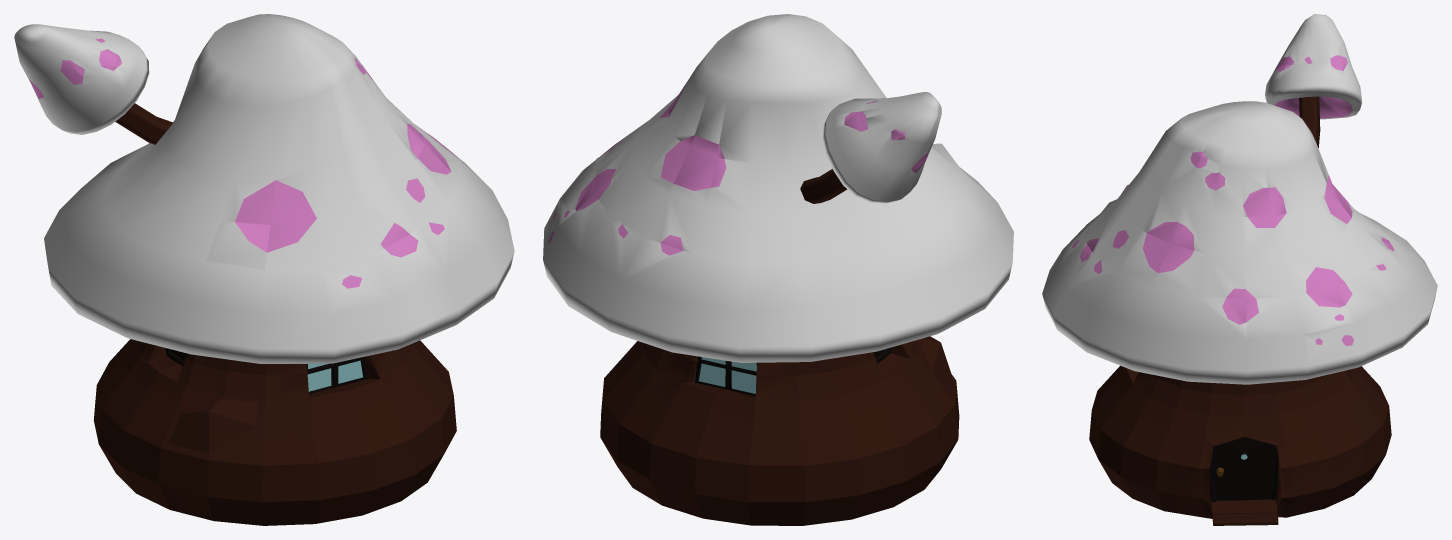
The model's file is mushroom-house.obj.
3 views of the same model, side by side, from view 1: azimuth 30°, elevation 25°; view 2: azimuth 150°, elevation 25°; view 3: azimuth 270°, elevation 25° (orthographic). The views are drawn at different scales.
Visible parts, largest first — view 1: Base.001; view 2: Base.001; view 3: Base.001, Door.001.
Boxes of the visible parts, x1,y1,x2,y2 form: Base.001: (14, 14, 514, 525); Base.001: (543, 14, 1013, 525); Base.001: (1042, 14, 1437, 525); Door.001: (1210, 437, 1278, 501).
Size of the model in its own units: 9.88 by 10.07 by 9.76.
